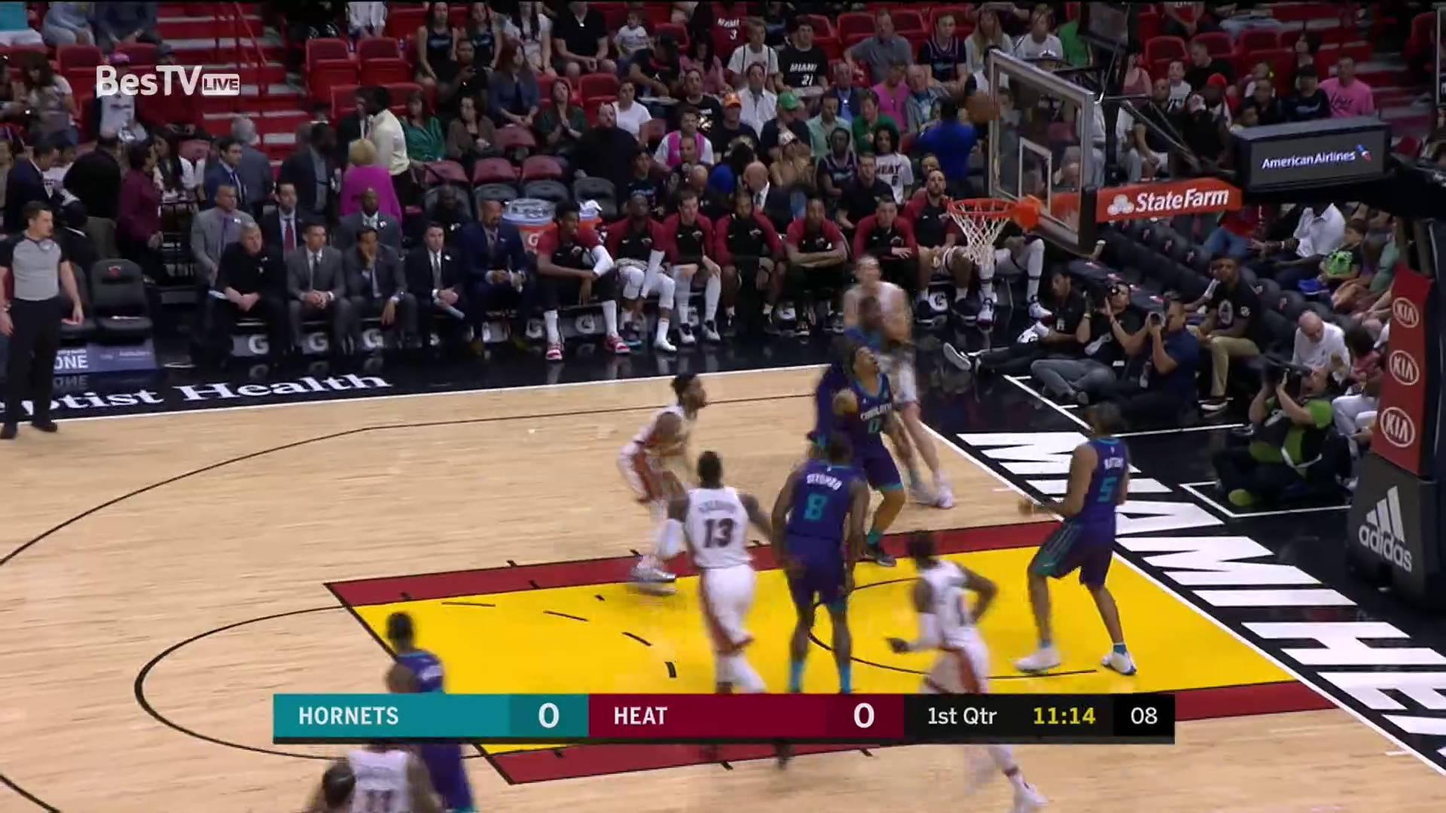basketball: (962, 87, 1003, 124)
